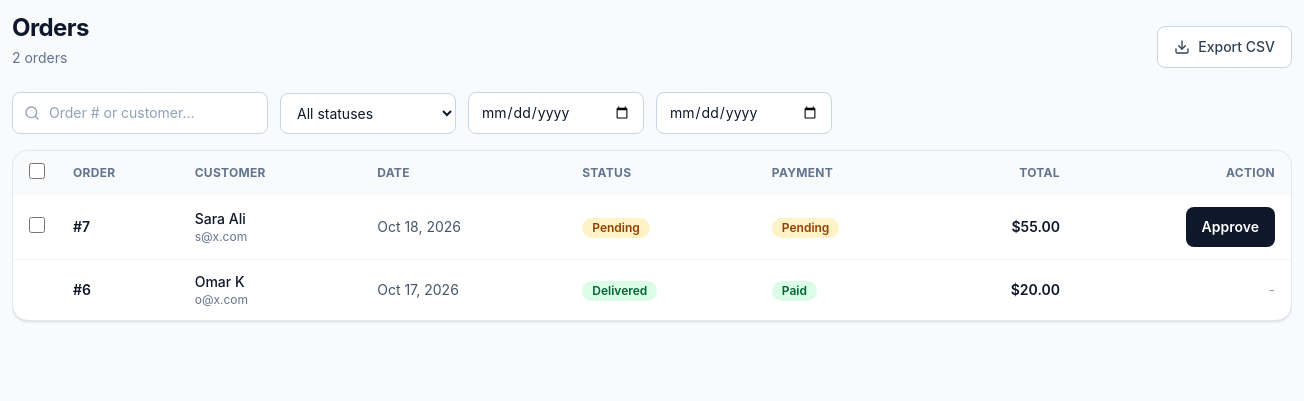
Test: AdminOrders › approves a pending order from the list
The image size is (1304, 401).
Click the button "Approve" at (1230, 227), box [1186,207,1275,247]
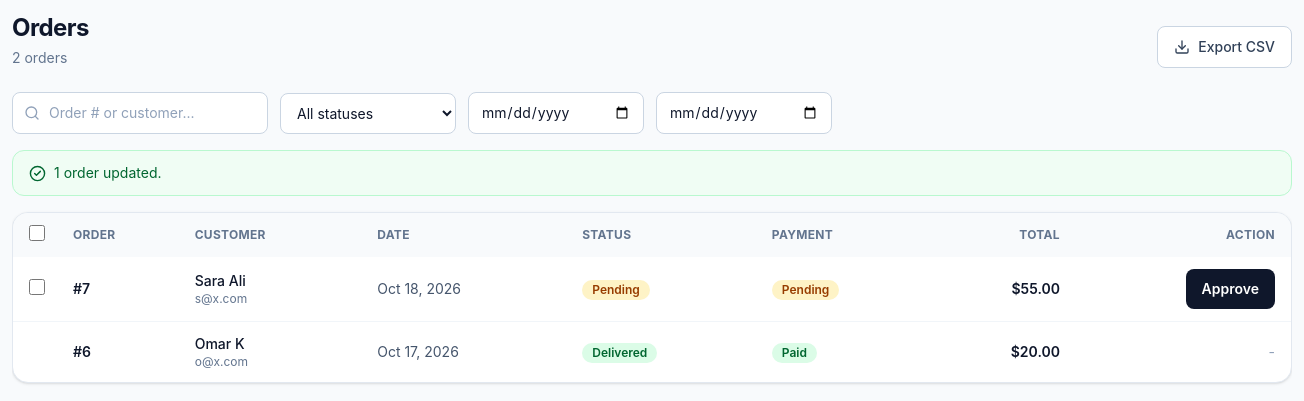
Check: the text "1 order updated." is shown, box [54,163,162,183]
